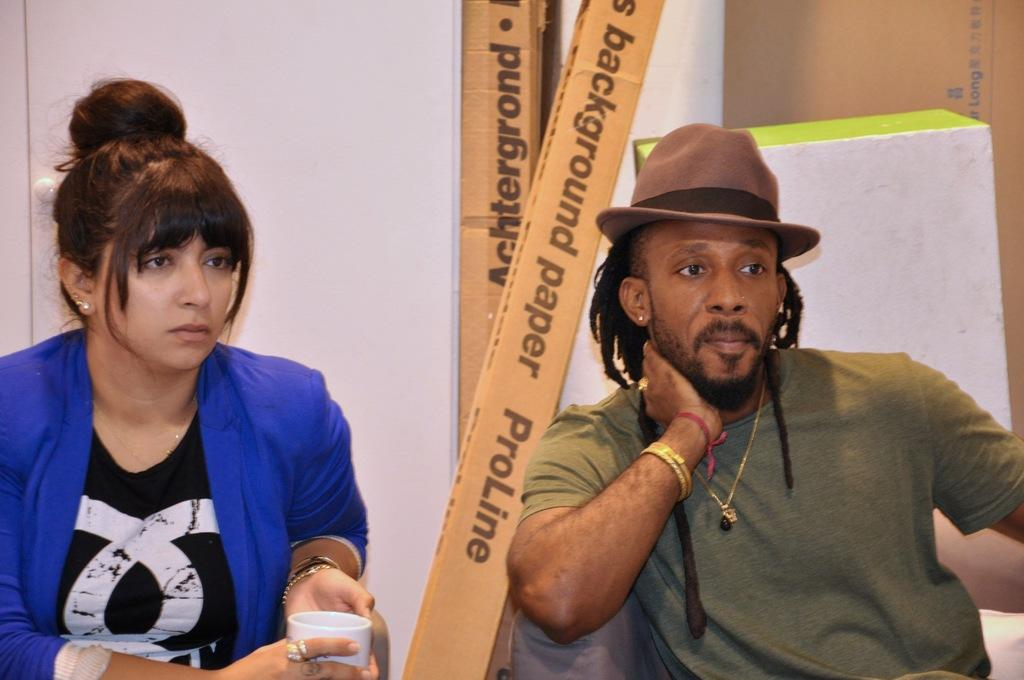Hat: (596, 118, 824, 268)
